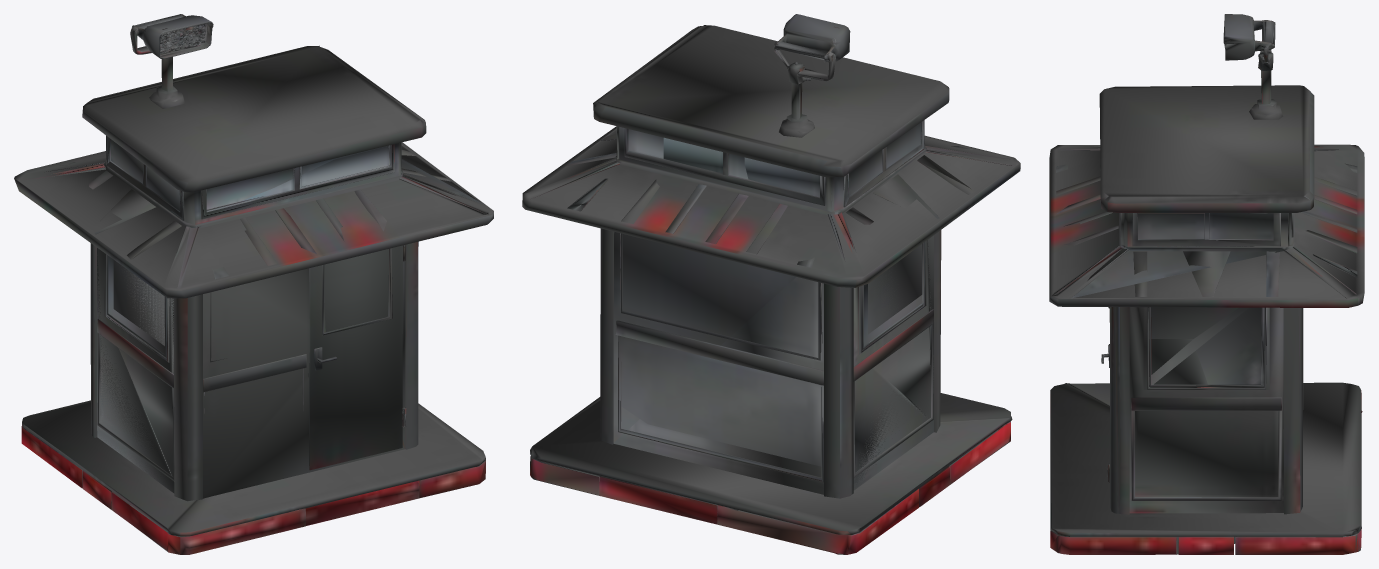
Rendered from booth.glb.
3 views of the same model, side by side, from view 1: azimuth 30°, elevation 25°; view 2: azimuth 150°, elevation 25°; view 3: azimuth 270°, elevation 25° (orthographic). The views are drawn at different scales.
Size of the model in its own units: 0.7447 by 0.9502 by 0.6352.
1 material, 1 textured.
